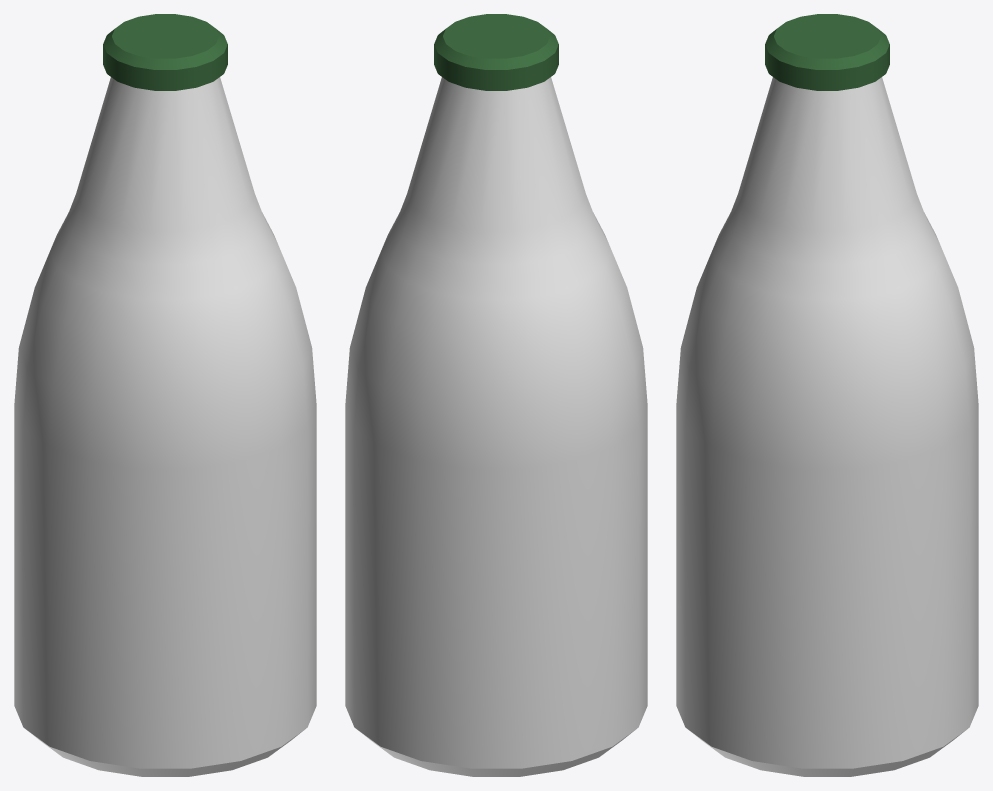
The model's file is Juice bottle.fbx.
3 views of the same model, side by side, from view 1: azimuth 30°, elevation 25°; view 2: azimuth 150°, elevation 25°; view 3: azimuth 270°, elevation 25° (orthographic).
Parts seen in each view (by area): view 1: Juice bottle; view 2: Juice bottle; view 3: Juice bottle.
Boxes of the visible parts, x1,y1,x2,y2 form: Juice bottle: [14, 14, 316, 776]; Juice bottle: [345, 14, 647, 776]; Juice bottle: [676, 14, 978, 776].
Bounding box in the file's own units: 21.28 × 53.99 × 21.61.
